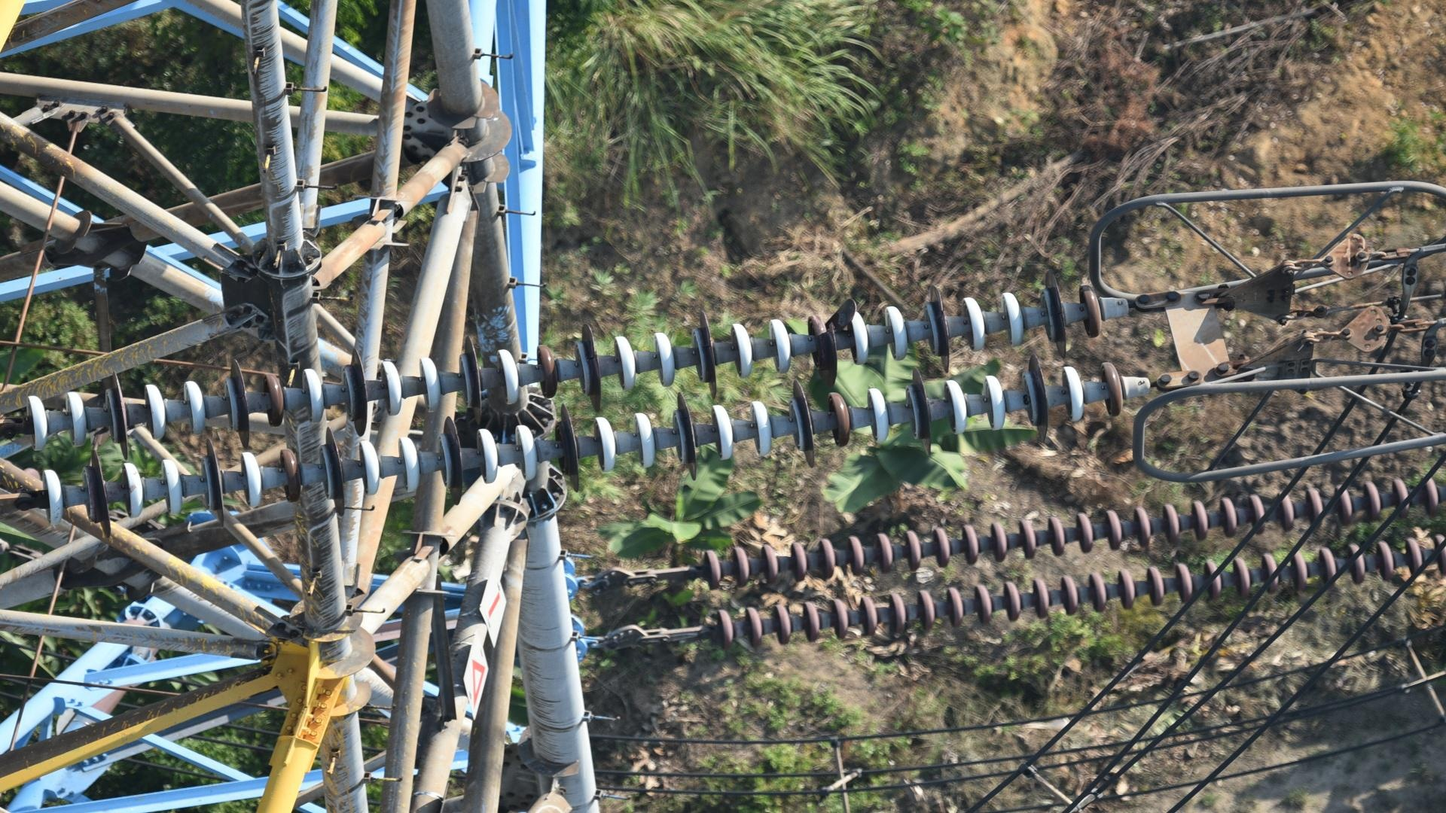insulator: (18, 276, 1130, 537), (697, 470, 1446, 649)
